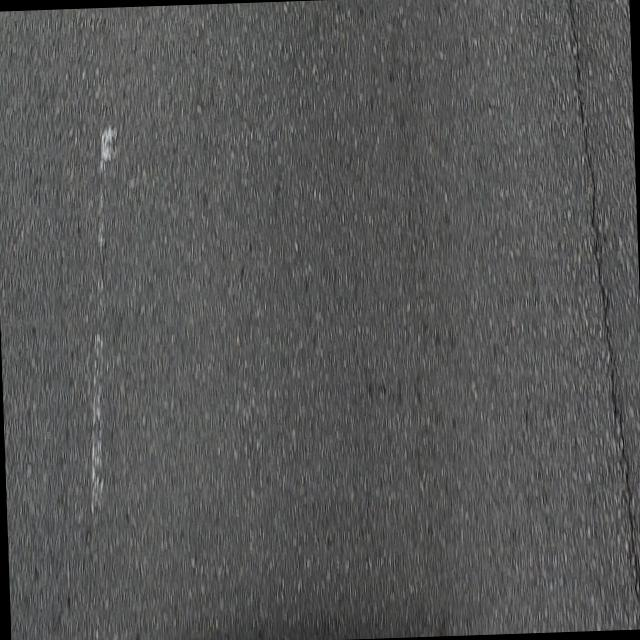Retak-Memanjang: (562, 0, 640, 629)
